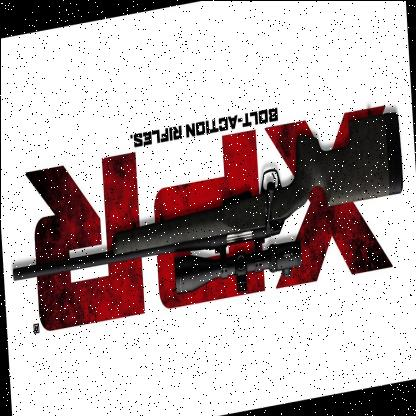rifle: (6, 110, 410, 326)
